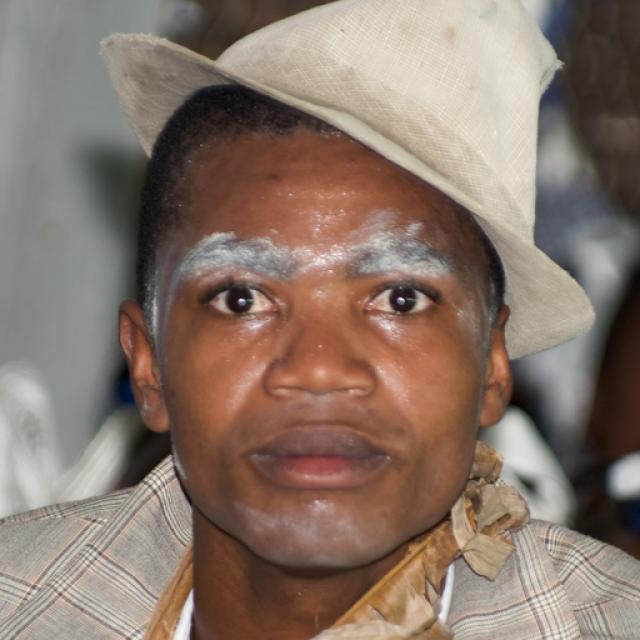neutral: (162, 118, 488, 575)
